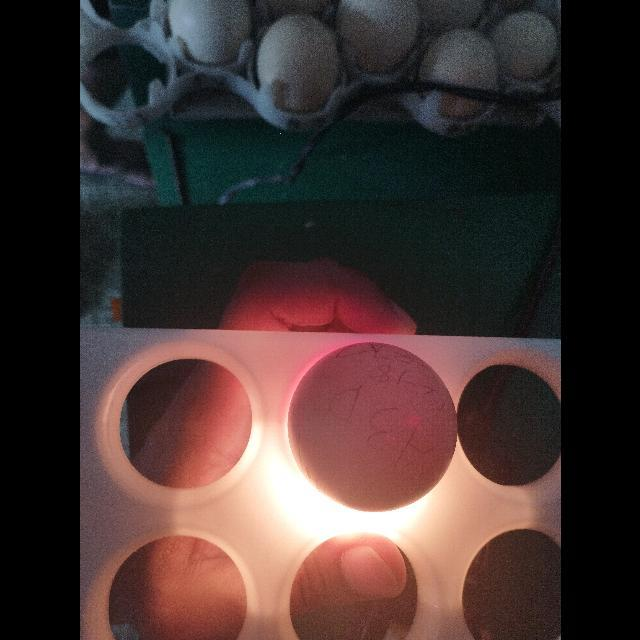Fertile: (286, 342, 458, 514)
